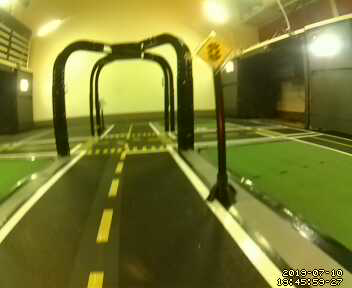Traffic light sign: (194, 31, 234, 70)
